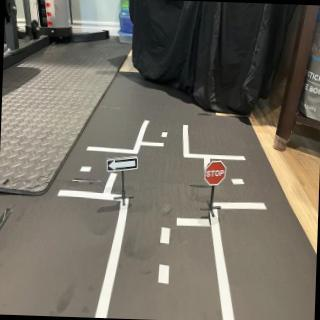sign_oneway_left: (107, 155, 139, 176)
sign_stop: (206, 162, 228, 188)
